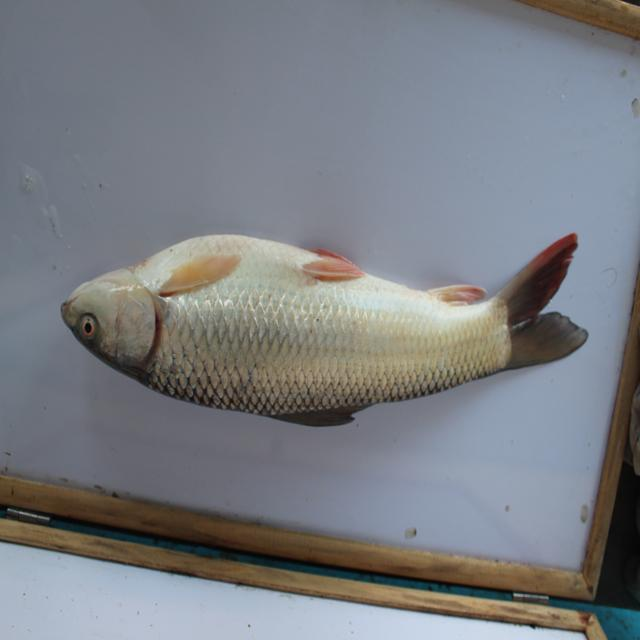Mori: (45, 196, 594, 443)
